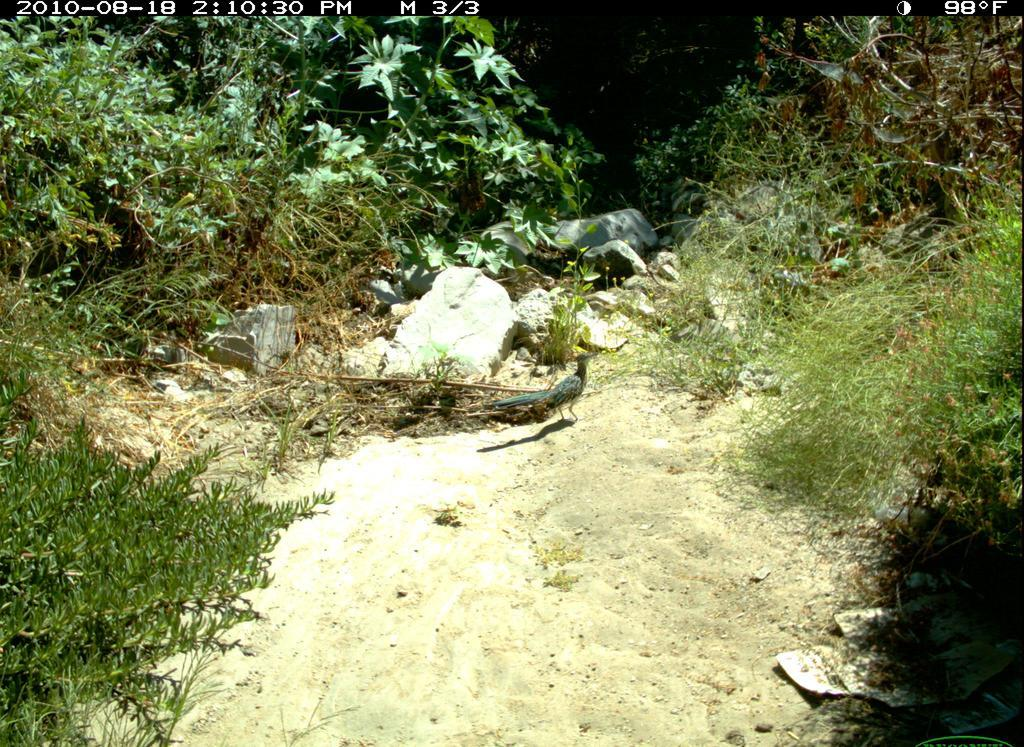bird: (497, 358, 614, 442)
